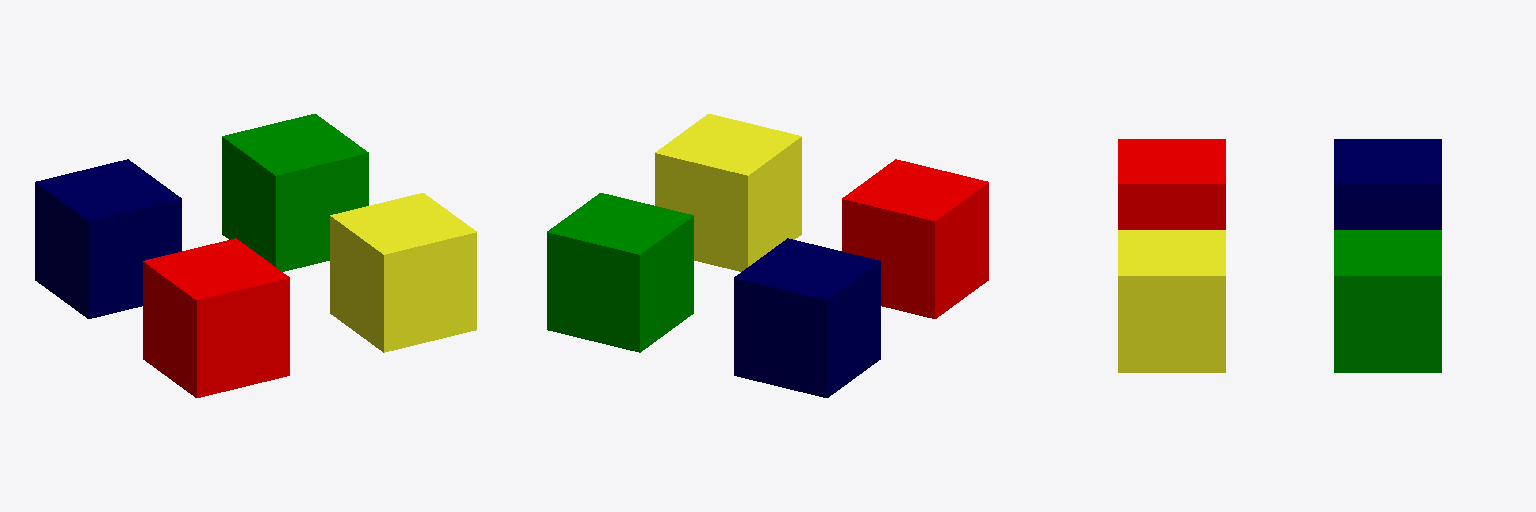
File: OBJTest2.obj
3 renders of one model, left to right at view 1: azimuth 30°, elevation 25°; view 2: azimuth 150°, elevation 25°; view 3: azimuth 270°, elevation 25°, orthographic.
Visible parts, largest first — view 1: Mesh1 Model, Mesh2 Model, Mesh4 Model, Mesh3 Model; view 2: Mesh3 Model, Mesh4 Model, Mesh1 Model, Mesh2 Model; view 3: Mesh2 Model, Mesh3 Model, Mesh1 Model, Mesh4 Model.
Part boxes in pixels (left/top/right/bottom): Mesh1 Model: left=143, top=238, right=289, bottom=397; Mesh2 Model: left=330, top=193, right=476, bottom=352; Mesh4 Model: left=35, top=159, right=181, bottom=318; Mesh3 Model: left=222, top=114, right=368, bottom=271; Mesh3 Model: left=547, top=193, right=693, bottom=352; Mesh4 Model: left=734, top=238, right=880, bottom=397; Mesh1 Model: left=842, top=159, right=988, bottom=318; Mesh2 Model: left=655, top=114, right=801, bottom=271; Mesh2 Model: left=1118, top=230, right=1225, bottom=372; Mesh3 Model: left=1334, top=230, right=1441, bottom=372; Mesh1 Model: left=1118, top=139, right=1225, bottom=229; Mesh4 Model: left=1334, top=139, right=1441, bottom=229.
Size of the model in its own units: 3 by 1 by 3.